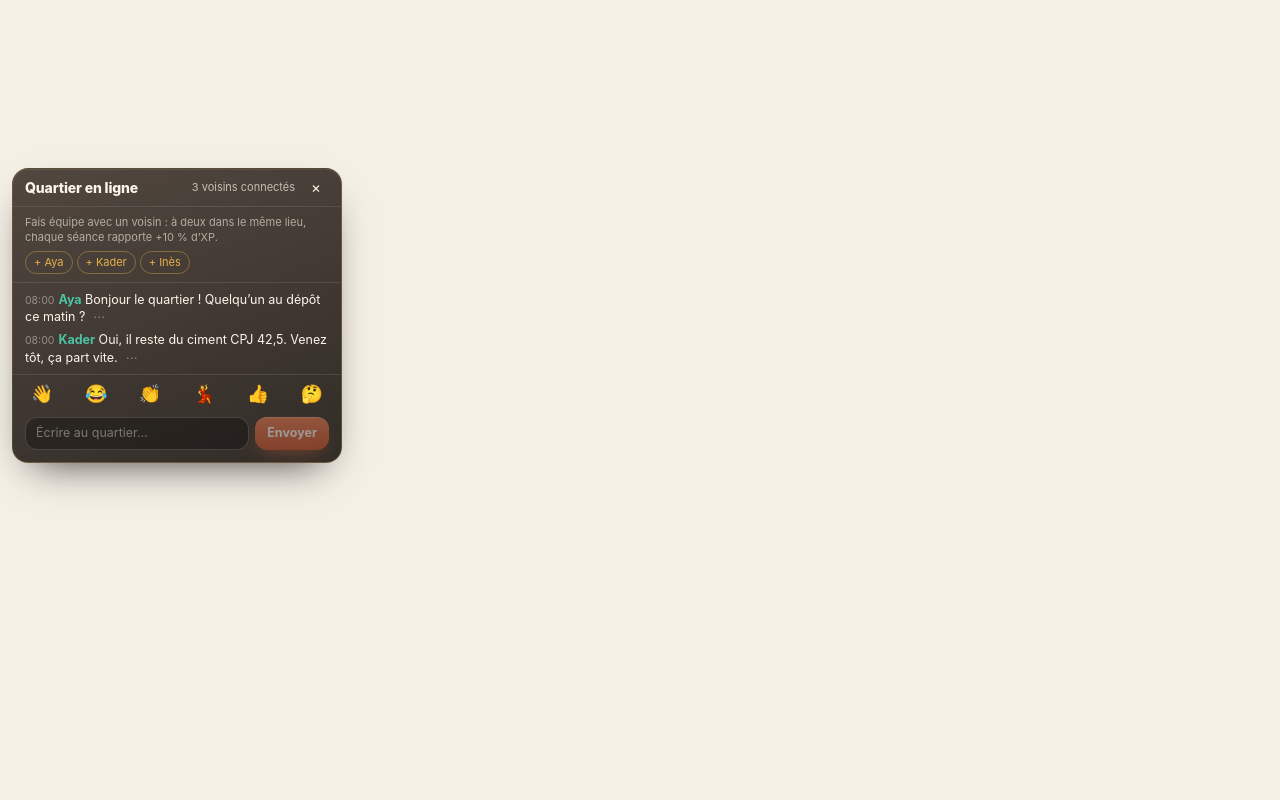
Scenario: les équipes de quartier dans le chat › affiche l’erreur du serveur quand une invitation est refusée
What coordinates should you click on to do the following:
click the button with aria-label "Inviter Inès dans ton équipe"
I would click on:
 (165, 263)
Its box is top-left (140, 251), bottom-right (190, 274).
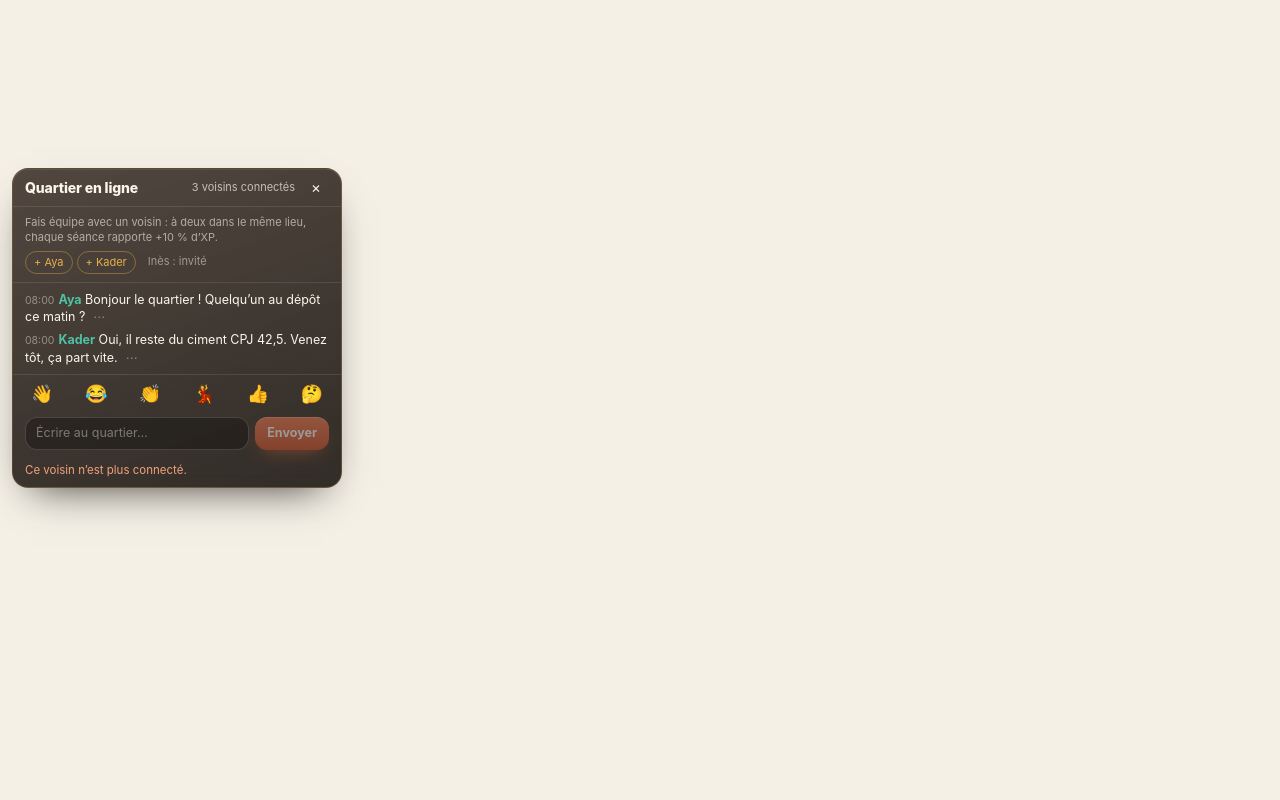
Result: the message reads "Ce voisin n’est plus connecté." at top-left (25, 463), bottom-right (187, 477)
